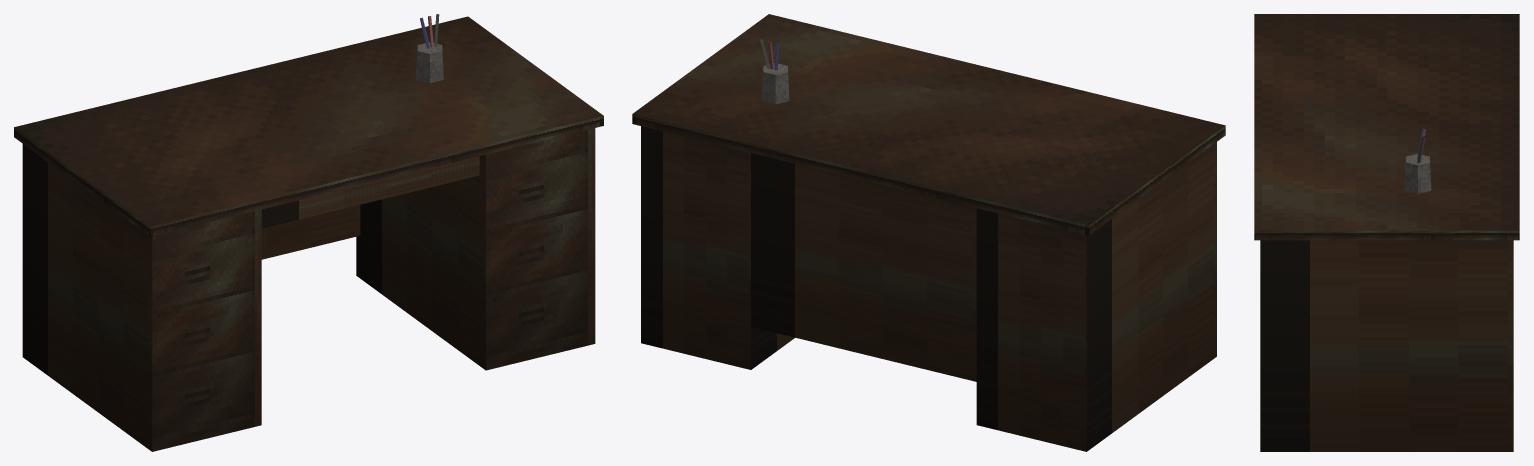
The model's file is prop_principal_desk.glb.
The picture shows the model from 3 angles, left to right: view 1: azimuth 30°, elevation 25°; view 2: azimuth 150°, elevation 25°; view 3: azimuth 270°, elevation 25°; orthographic projection. The views are drawn at different scales.
Visible parts, largest first — view 1: prop_principal_desk; view 2: prop_principal_desk; view 3: prop_principal_desk.
Part boxes in pixels (x1,y1,x2,y2): prop_principal_desk: (14,14,603,451); prop_principal_desk: (632,14,1225,451); prop_principal_desk: (1254,14,1519,451).
Bounding box in the file's own units: 1.66 × 1 × 0.86.
Materials: 7 (7 with a texture image).
